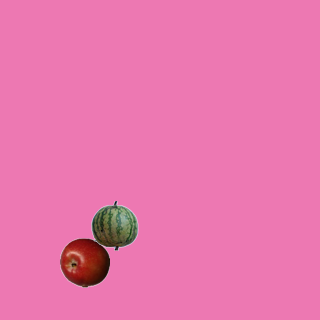Apple Braeburn: (59, 237, 109, 287)
Watermelon: (89, 200, 139, 250)
